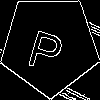P: (25, 20, 69, 74)
